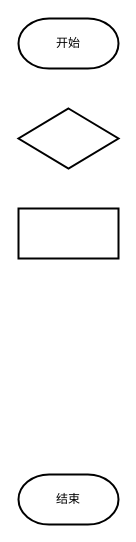
This 136x542 diagram has some shape labels left out. The centre of each missing label's shape, as x and y in pixels:
弹出授权: (68,233)
是否同意: (68,138)
